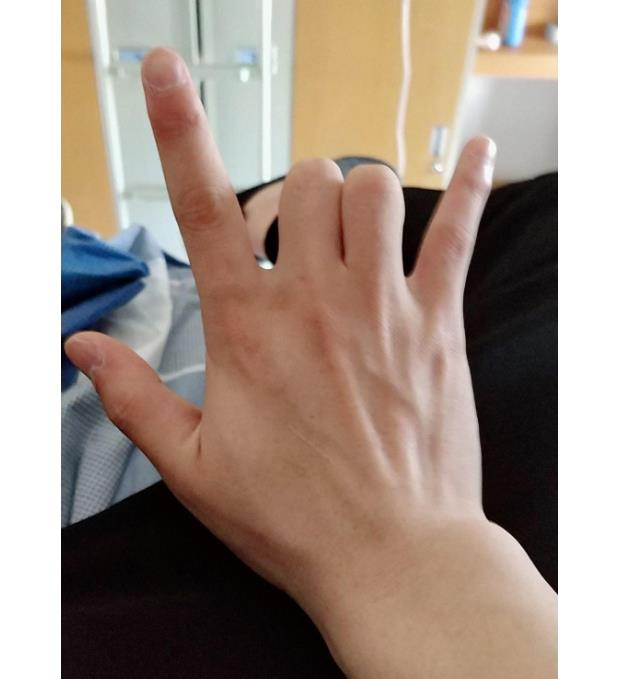back: (59, 31, 500, 547)
